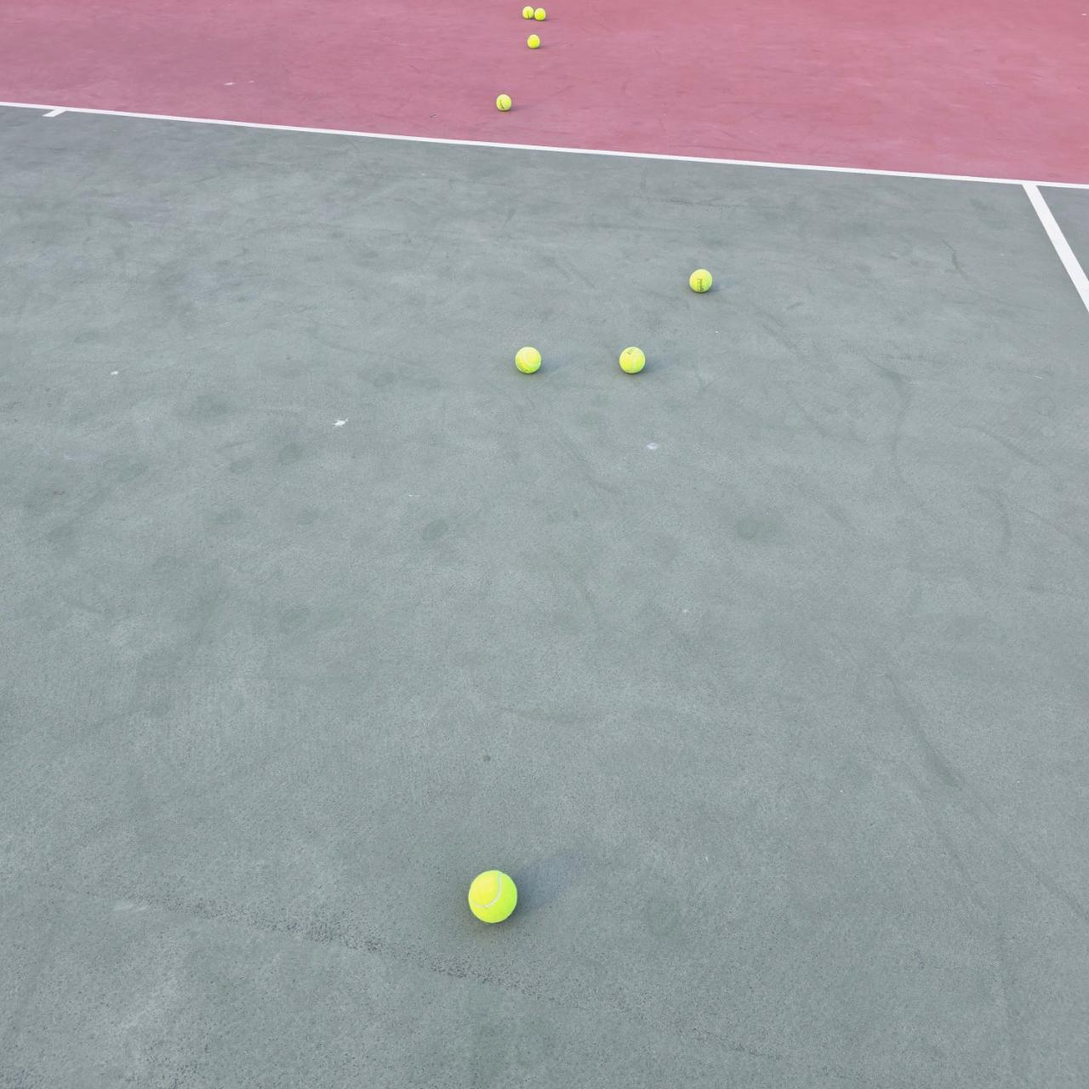tennis-ball: (468, 867, 520, 924), (515, 345, 543, 373), (619, 346, 647, 373), (689, 266, 715, 293), (496, 93, 512, 111), (528, 33, 541, 48), (534, 7, 546, 21), (522, 5, 534, 19)
